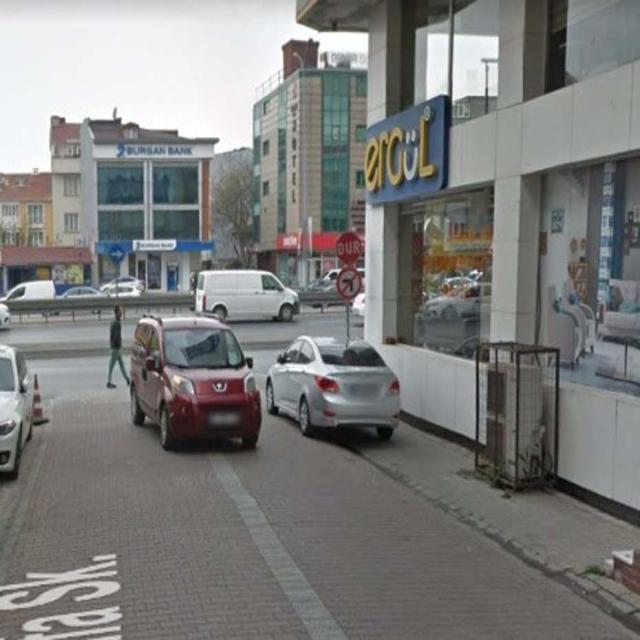dur: (336, 233, 362, 264)
sag: (108, 245, 125, 263)
soladonulmez: (337, 267, 361, 297)
